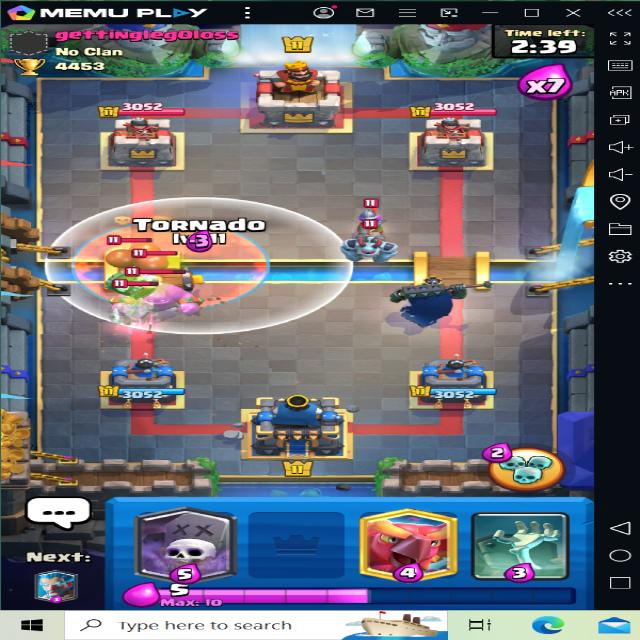electro-golem: (102, 268, 208, 321)
mega-minion: (335, 224, 405, 268)
musketeer: (331, 192, 402, 236)
royal-ghost: (104, 282, 174, 332)
skeleton-barrel: (101, 235, 160, 301)
